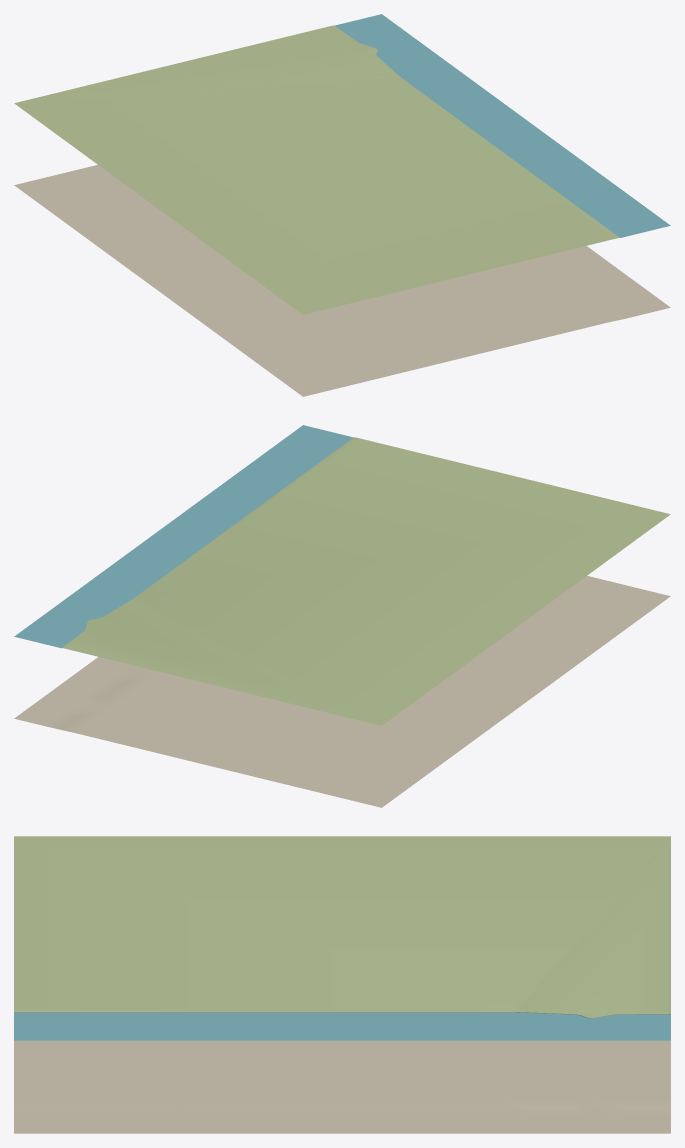
3 views of the same model, one above another, from view 1: azimuth 30°, elevation 25°; view 2: azimuth 150°, elevation 25°; view 3: azimuth 270°, elevation 25° (orthographic). The views are drawn at different scales.
Visible parts, largest first — view 1: s_-13_1__grass, s_-13_1__soil, s_-13_1__water; view 2: s_-13_1__grass, s_-13_1__soil, s_-13_1__water; view 3: s_-13_1__grass, s_-13_1__soil, s_-13_1__water, s_-13_1__shore_bank.
Part boxes in pixels (<box>): s_-13_1__grass: <box>14,25,619,314</box>; s_-13_1__soil: <box>14,165,670,396</box>; s_-13_1__water: <box>335,14,670,237</box>; s_-13_1__grass: <box>62,437,670,725</box>; s_-13_1__soil: <box>14,576,670,807</box>; s_-13_1__water: <box>14,425,353,648</box>; s_-13_1__grass: <box>14,836,670,1018</box>; s_-13_1__soil: <box>14,1040,670,1133</box>; s_-13_1__water: <box>14,1012,670,1040</box>; s_-13_1__shore_bank: <box>14,1012,670,1018</box>.
Bounding box in the file's own units: 94 × 20.14 × 128.
